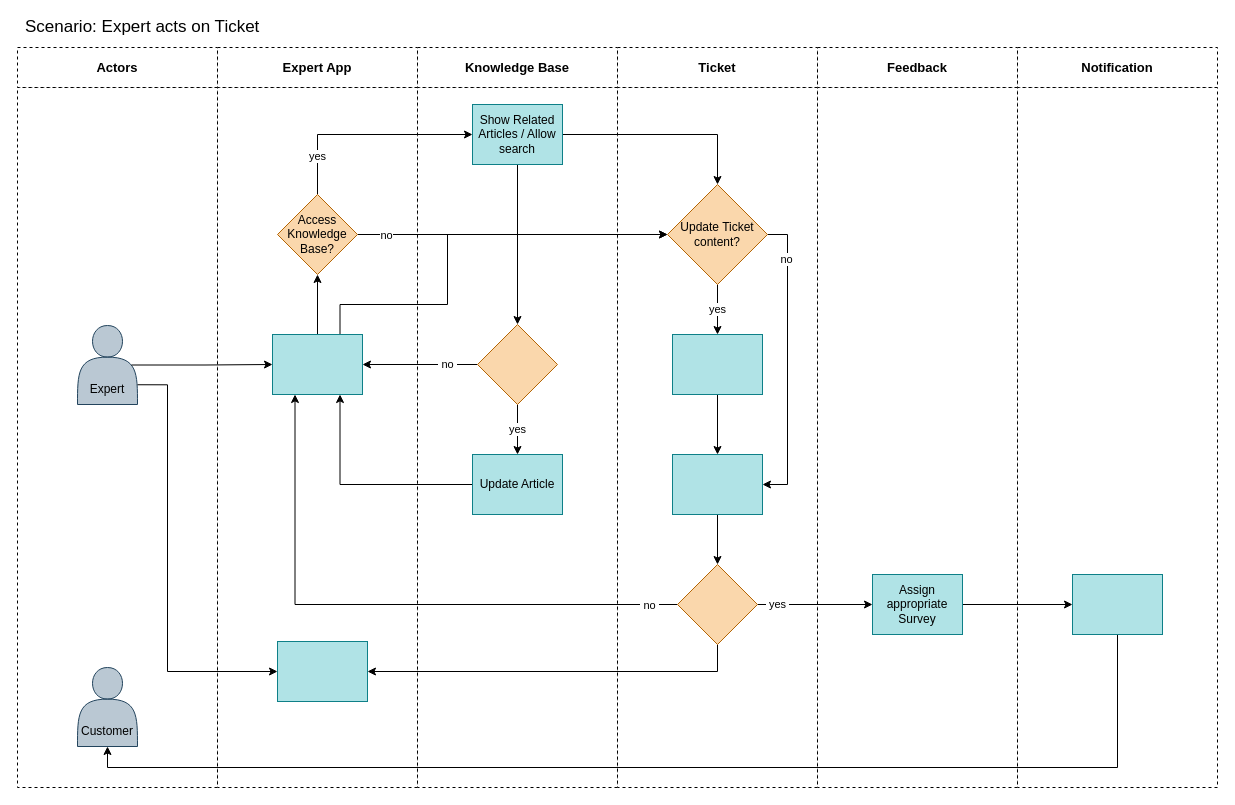
Some shapes in this 1235 by 805 pixel diagram are drawn without their labels. The shapes that lost their labels are listed below. From the top down, each one's centre as x and y in pixels, then its label:
At (x=317, y=364): "Show Ticket Details".
At (x=517, y=364): "Update Knowledge Base?".
At (x=717, y=364): "Edit Ticket Content".
At (x=717, y=484): "Update Ticket status".
At (x=717, y=604): "Ticket Closed?".
At (x=1117, y=604): "Notify Customer of survey".
At (x=322, y=671): "Show as Closed".
